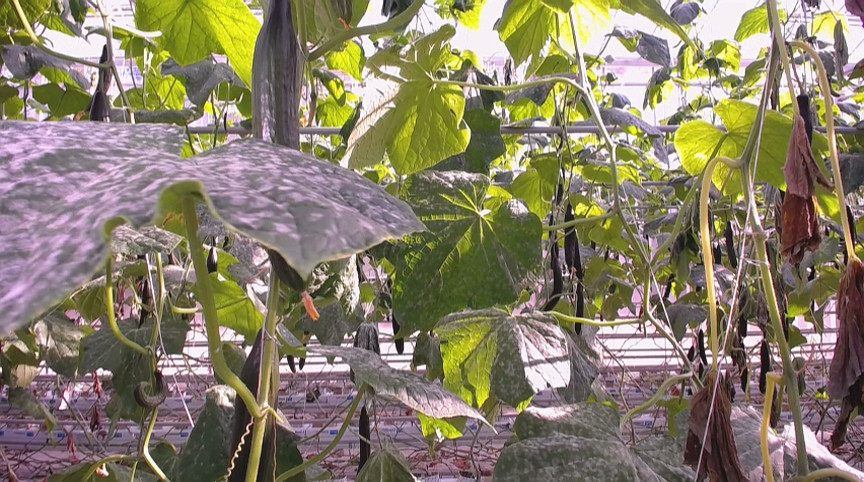cucumber: (249, 1, 302, 152), (233, 331, 279, 482), (540, 260, 565, 311), (564, 203, 577, 269)
